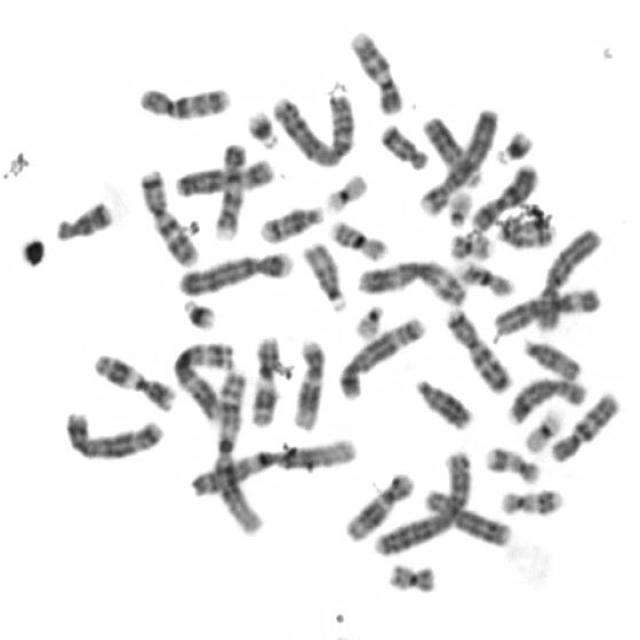A1: (184, 434, 358, 498), (211, 366, 264, 538)
A2: (370, 445, 473, 559), (268, 89, 356, 170)
A3: (167, 336, 238, 422), (353, 256, 470, 308)
B4: (416, 104, 499, 218), (174, 246, 295, 297)
B5: (334, 312, 426, 402), (59, 406, 164, 462)
C10: (546, 388, 622, 466), (134, 82, 232, 123)
C11: (88, 349, 177, 414), (247, 330, 281, 428)
C12: (339, 467, 416, 544), (288, 336, 327, 432)
C6: (530, 224, 604, 332), (488, 283, 603, 340)
C7: (134, 165, 200, 268), (442, 304, 513, 396)
C8: (420, 485, 513, 548), (503, 371, 588, 426)
C9: (346, 26, 405, 116), (210, 139, 247, 243)
D13: (420, 112, 482, 189), (410, 375, 473, 431)
D14: (254, 200, 327, 246), (494, 212, 555, 250)
D15: (300, 240, 348, 313), (520, 334, 582, 382)
E16: (326, 215, 388, 263), (454, 258, 515, 298)
E17: (481, 442, 542, 487), (496, 486, 563, 518)
E18: (50, 196, 114, 243), (376, 120, 430, 171)
F19: (519, 406, 566, 454), (322, 170, 369, 212)
F20: (383, 559, 439, 596), (446, 228, 494, 260)
G21: (491, 125, 536, 166), (242, 106, 280, 151), (178, 294, 218, 332)
G22: (350, 300, 386, 340), (445, 186, 474, 228)
X: (468, 161, 540, 233), (172, 155, 276, 198)
